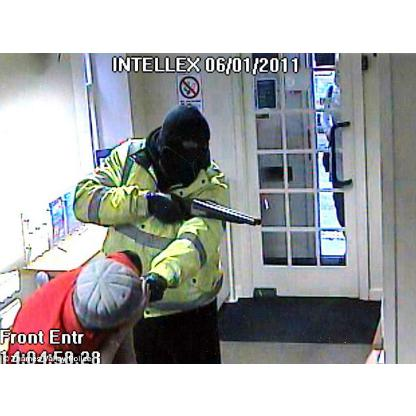gun: (152, 184, 264, 226)
